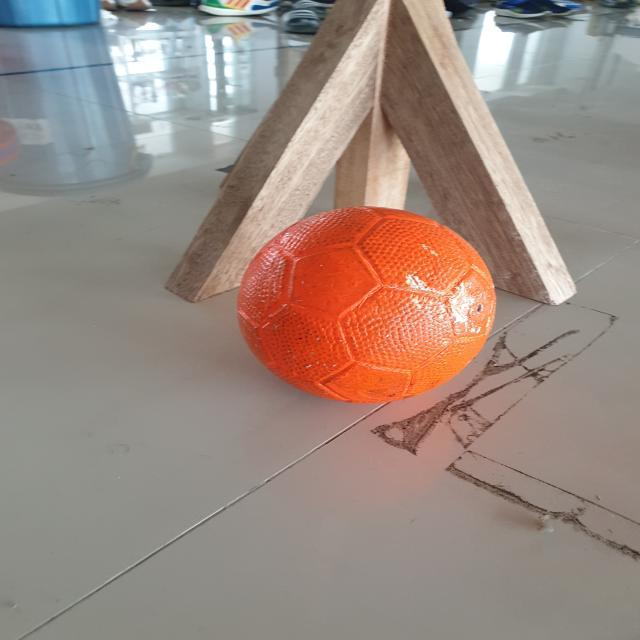bola: (206, 195, 537, 415)
